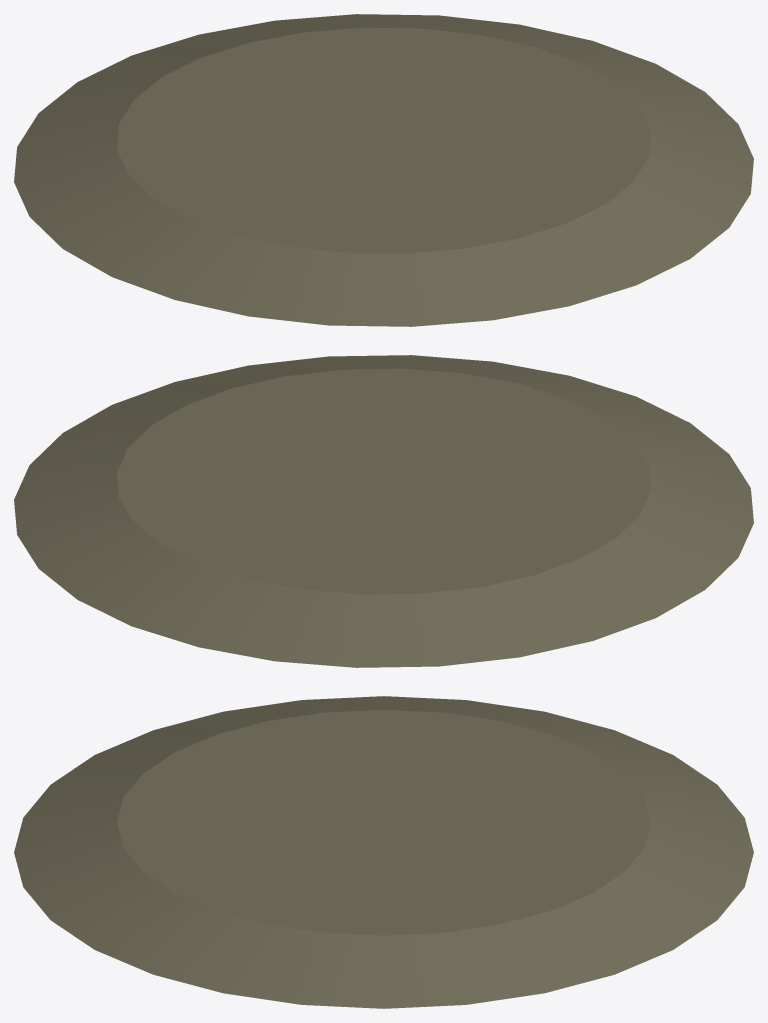
Rendered from well-dais.glb.
3 renders of one model, top to bottom at view 1: azimuth 30°, elevation 25°; view 2: azimuth 150°, elevation 25°; view 3: azimuth 270°, elevation 25°, orthographic.
Visible parts, largest first — view 1: Well Dais; view 2: Well Dais; view 3: Well Dais.
Boxes of the visible parts, left/top/right/bottom form: Well Dais: left=14, top=14, right=753, bottom=326; Well Dais: left=14, top=355, right=753, bottom=667; Well Dais: left=14, top=696, right=753, bottom=1008.
Size of the model in its own units: 82.82 by 3.68 by 82.82.
